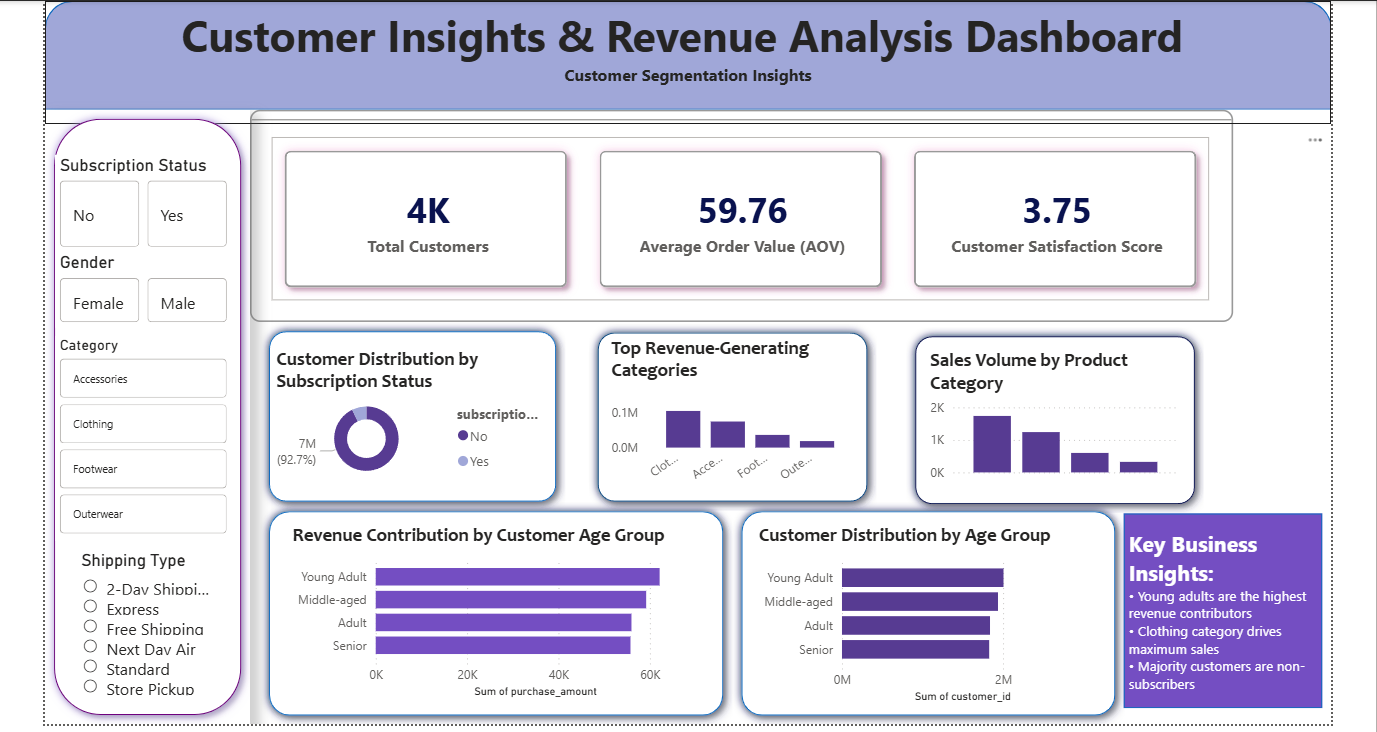

The dashboard page shown, as its layout file describes it:
{"tool":"powerbi","page":{"name":"Page 1","canvas":[1280,720],"ordinal":0},"visuals":[{"type":"cardVisual","fields":{"Data":["public customer.Number of customers","public customer.Average Purchase Amount","public customer.Average Review Rate"]},"box":[203.8,108.8,978.8,211.2],"z":0},{"type":"shape","box":[0,0,1280.3,108.3],"z":1000},{"type":"textbox","box":[0,0,1280,123.8],"z":2000},{"type":"shape","box":[213.8,320,303.8,187.5],"z":3000},{"type":"shape","box":[857.5,325,296.2,185],"z":4000},{"type":"shape","box":[541.2,321.2,286.2,186.2],"z":5000},{"type":"clusteredColumnChart","title":"Top Revenue-Generating Categories","fields":{"Y":["Sum(public customer.purchase_amount)"],"Category":["public customer.category"]},"box":[558.8,333.8,251.2,156.2],"z":6000},{"type":"clusteredColumnChart","title":"Sales Volume by Product Category","fields":{"Category":["public customer.category"],"Y":["CountNonNull(public customer.customer_id)"]},"box":[876.2,346.2,257.5,137.5],"z":7000},{"type":"shape","box":[0,108.3,204.2,611.4],"z":8000},{"type":"advancedSlicerVisual","title":"Subscription Status","fields":{"Values":["public customer.subscription_status"]},"box":[10,152.5,176.2,97.5],"z":9000},{"type":"donutChart","title":"Customer Distribution by Subscription Status","fields":{"Category":["public customer.subscription_status"],"Y":["Sum(public customer.customer_id)"]},"box":[225,345,278.8,137.5],"z":10000},{"type":"advancedSlicerVisual","title":"Gender","fields":{"Values":["public customer.gender"]},"box":[10,250,176.2,75],"z":11000},{"type":"advancedSlicerVisual","title":"Category","fields":{"Values":["public customer.category"]},"box":[10,333.8,176.2,203.8],"z":12000},{"type":"listSlicer","title":"Shipping Type","fields":{"Values":["public customer.shipping_type"]},"box":[31.4,545.7,141.4,152.9],"z":13000},{"type":"shape","box":[213.8,498.8,470,221.2],"z":14000},{"type":"clusteredBarChart","title":"Revenue Contribution by Customer Age Group","fields":{"Y":["Sum(public customer.purchase_amount)"],"Category":["public customer.age_group"]},"box":[241.2,520,421.2,178.8],"z":15000},{"type":"shape","box":[683.8,498.8,390,221.2],"z":16000},{"type":"clusteredBarChart","title":"Customer Distribution by Age Group ","fields":{"Category":["public customer.age_group"],"Y":["Sum(public customer.customer_id)"]},"box":[705,520,342.5,183.8],"z":17000},{"type":"shape","box":[1073.8,510,197.5,193.8],"z":17001},{"type":"textbox","box":[1073.8,520,197.5,178.8],"z":17002}]}

Visuals, with their boxes in screenshot pixels (x1, y1, x2, y2):
cardVisual - public customer.Number of customers x public customer.Average Purchase Amount: rect(244, 109, 1224, 321)
shape: rect(39, 0, 1322, 109)
textbox: rect(39, 0, 1322, 124)
shape: rect(254, 321, 558, 508)
shape: rect(899, 326, 1195, 511)
shape: rect(582, 322, 868, 508)
"Top Revenue-Generating Categories" clusteredColumnChart: rect(599, 334, 851, 491)
"Sales Volume by Product Category" clusteredColumnChart: rect(917, 347, 1175, 485)
shape: rect(39, 109, 244, 721)
"Subscription Status" advancedSlicerVisual: rect(49, 153, 226, 250)
"Customer Distribution by Subscription Status" donutChart: rect(265, 346, 544, 483)
"Gender" advancedSlicerVisual: rect(49, 250, 226, 326)
"Category" advancedSlicerVisual: rect(49, 334, 226, 539)
"Shipping Type" listSlicer: rect(71, 547, 213, 700)
shape: rect(254, 500, 725, 721)
"Revenue Contribution by Customer Age Group" clusteredBarChart: rect(281, 521, 703, 700)
shape: rect(725, 500, 1115, 721)
"Customer Distribution by Age Group " clusteredBarChart: rect(746, 521, 1089, 705)
shape: rect(1115, 511, 1313, 705)
textbox: rect(1115, 521, 1313, 700)
